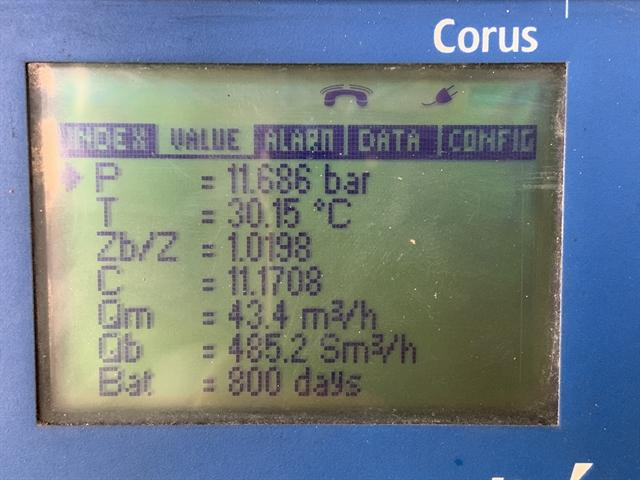digital_screen: (29, 62, 568, 425)
